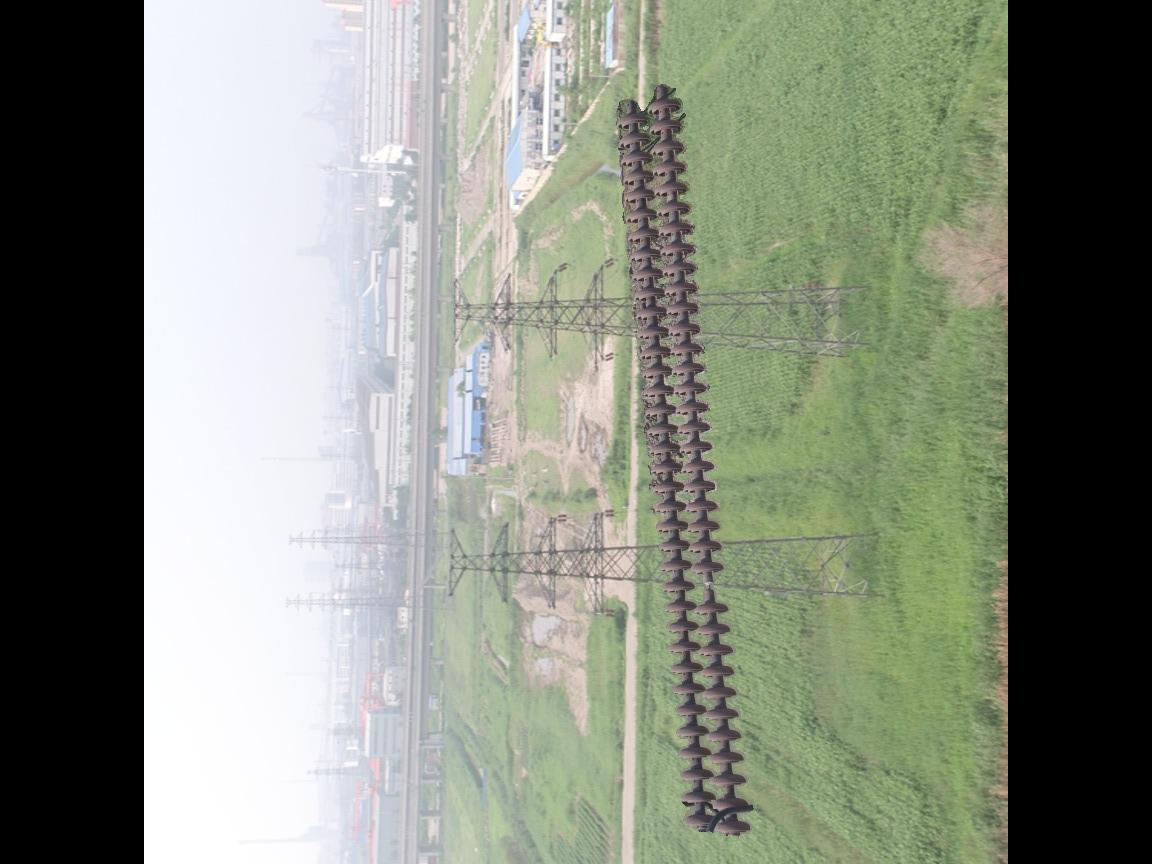insulator: (612, 86, 763, 840)
insulator_stringdrop: (690, 559, 732, 621)
